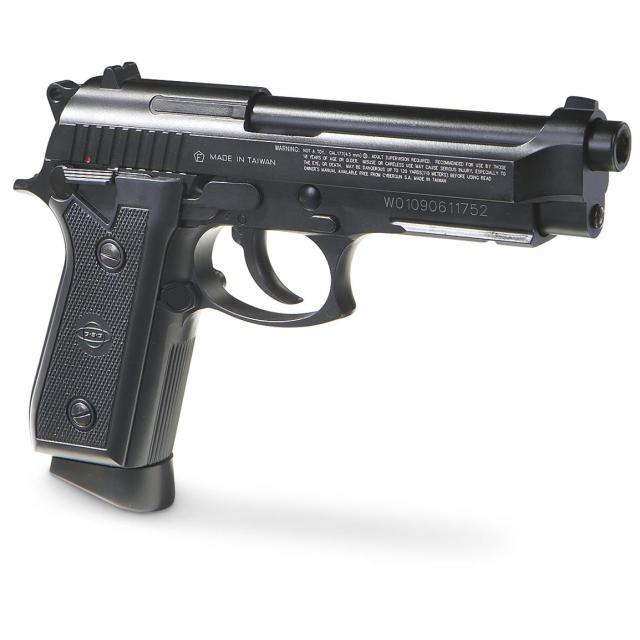Pistol: (8, 51, 640, 554)
